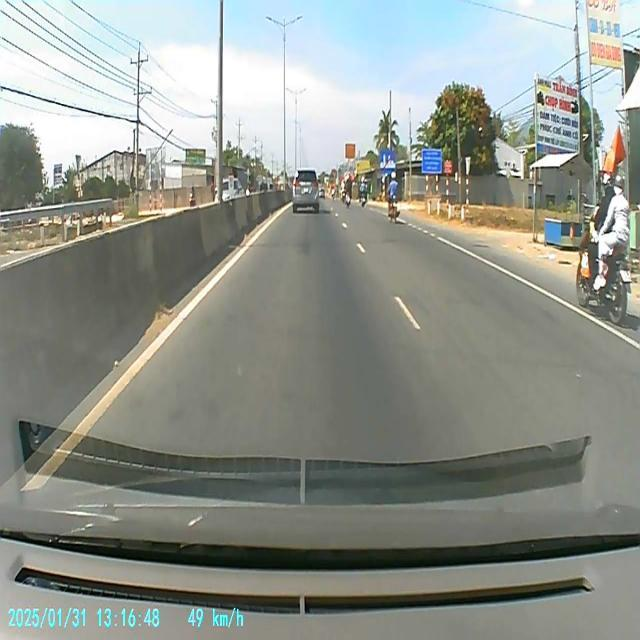421-ket-thuc-khu-dong-dan-cu: (379, 150, 396, 174)
